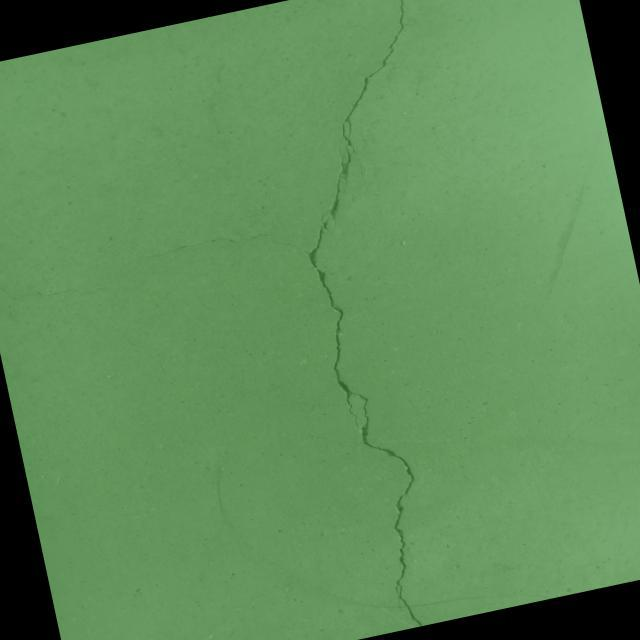crack: (75, 0, 534, 640), (0, 258, 126, 316), (418, 29, 445, 90)
